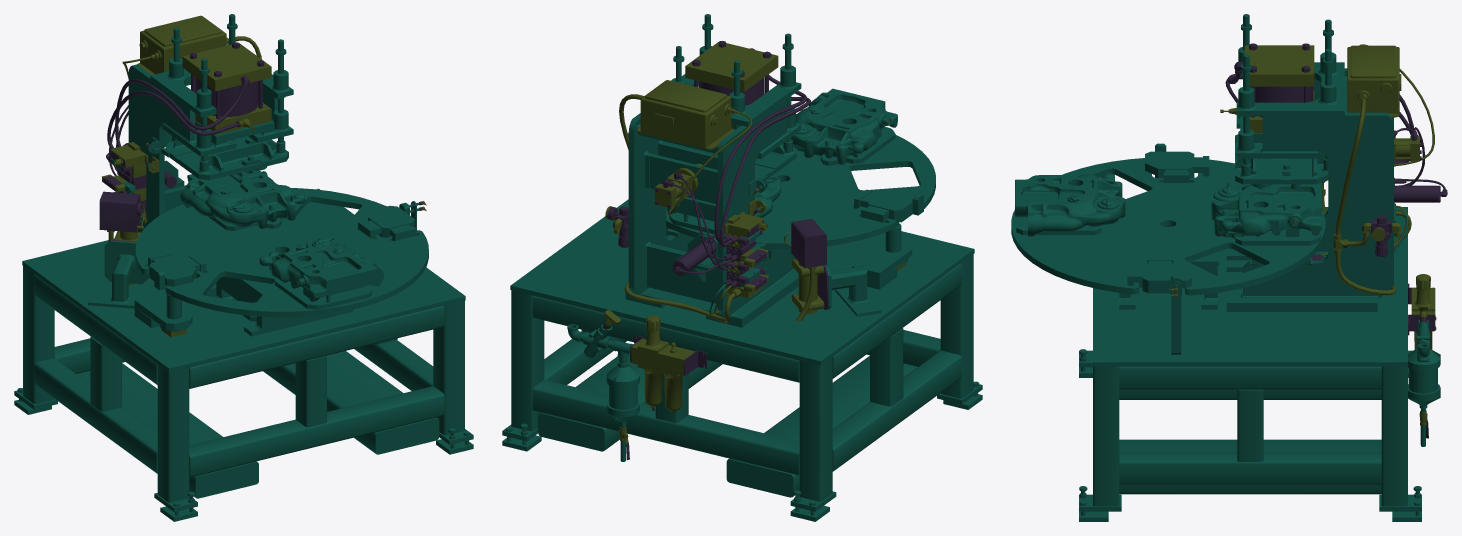
File: 圓盤工具桌.FBX
The picture shows the model from 3 angles, left to right: view 1: azimuth 30°, elevation 25°; view 2: azimuth 150°, elevation 25°; view 3: azimuth 270°, elevation 25°; orthographic projection. The views are drawn at different scales.
Visible parts, largest first — view 1: 桌子, 加工機, 圓盤, 工件1, 工件2; view 2: 桌子, 加工機, 圓盤, 工件2, 工件1; view 3: 桌子, 加工機, 圓盤, 工件2, 工件1.
Part boxes in pixels (x1,y1,x2,y2): 桌子: [14, 188, 473, 521]; 加工機: [102, 14, 293, 296]; 圓盤: [135, 188, 428, 317]; 工件1: [180, 170, 304, 228]; 工件2: [259, 237, 384, 301]; 桌子: [502, 133, 982, 521]; 加工機: [605, 14, 810, 327]; 圓盤: [666, 114, 935, 260]; 工件2: [791, 88, 897, 164]; 工件1: [667, 175, 781, 221]; 桌子: [1079, 143, 1440, 521]; 加工機: [1220, 14, 1447, 311]; 圓盤: [1011, 158, 1325, 295]; 工件2: [1015, 173, 1125, 236]; 工件1: [1211, 182, 1321, 237].
Size of the model in its own units: 144 by 174 by 169.
